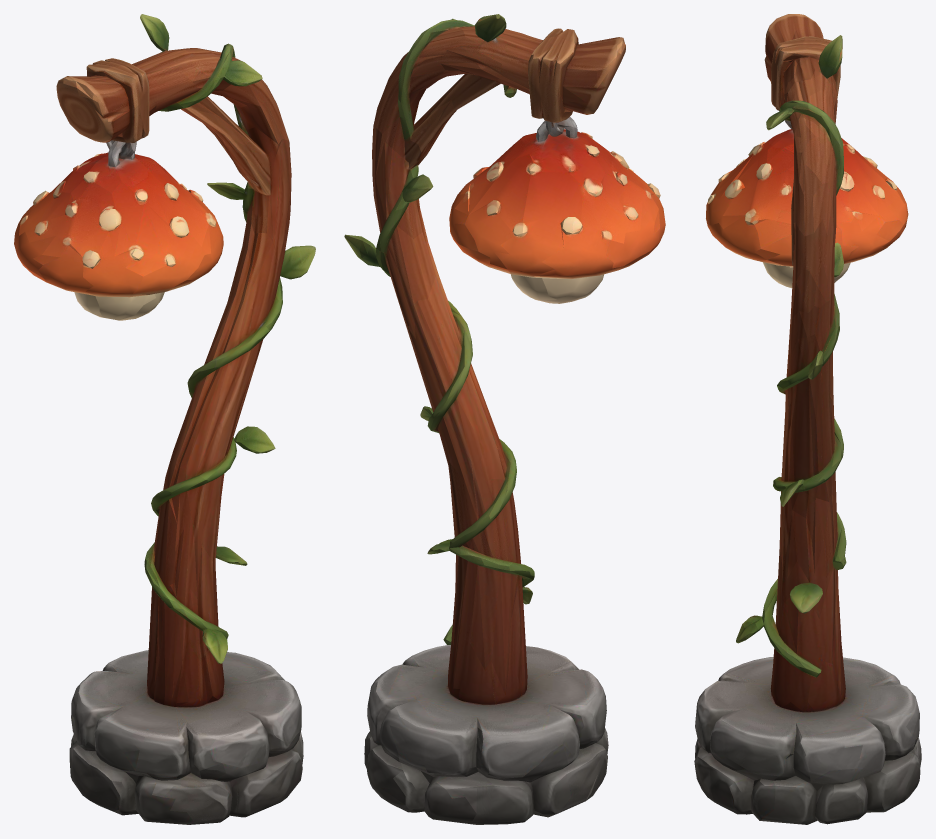
File: ch1_mushroom_lamp.fbx
The picture shows the model from 3 angles, left to right: view 1: azimuth 30°, elevation 25°; view 2: azimuth 150°, elevation 25°; view 3: azimuth 270°, elevation 25°; orthographic projection. The views are drawn at different scales.
Visible parts, largest first — view 1: ch1_mushroom_lamp; view 2: ch1_mushroom_lamp; view 3: ch1_mushroom_lamp.
Part boxes in pixels (left/top/right/bottom): ch1_mushroom_lamp: left=14, top=14, right=315, bottom=824; ch1_mushroom_lamp: left=344, top=14, right=665, bottom=824; ch1_mushroom_lamp: left=694, top=14, right=921, bottom=824.
Size of the model in its own units: 1.21 by 3 by 0.8435.
Materials: 1 (1 with a texture image).
